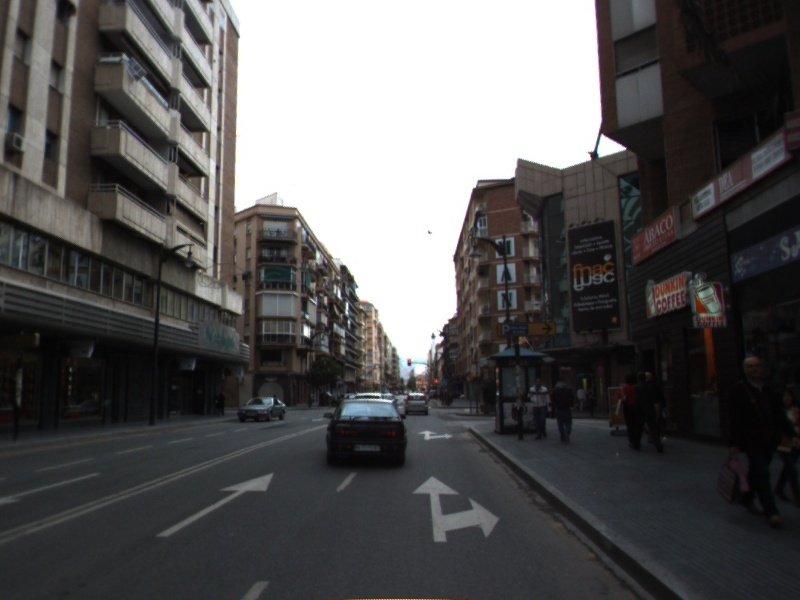STRAIGHT: (153, 471, 276, 539)
STRAIGHT_RIGHT: (409, 473, 502, 544), (416, 429, 456, 442)
